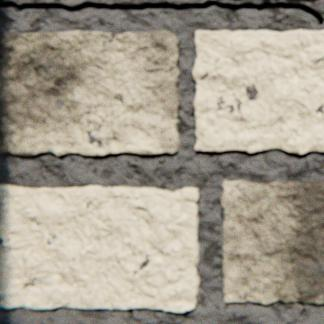brick: (0, 184, 199, 311), (0, 30, 180, 154), (193, 30, 323, 153), (222, 179, 323, 303)
crack: (0, 0, 323, 25)
